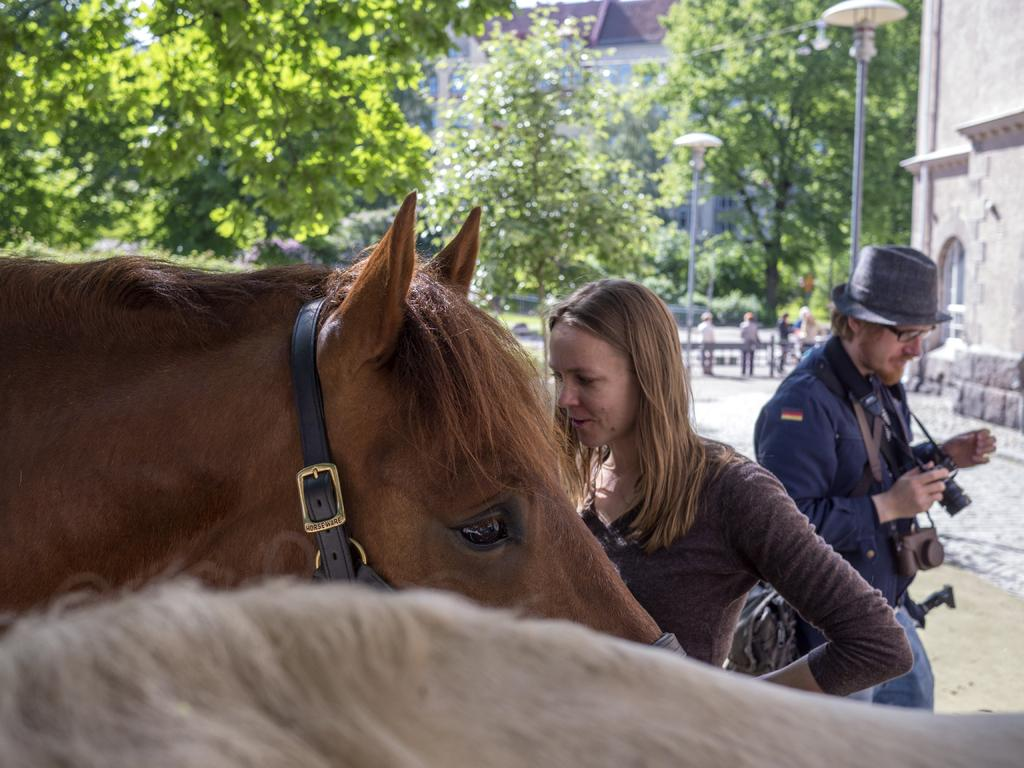Hat: (832, 238, 958, 330)
